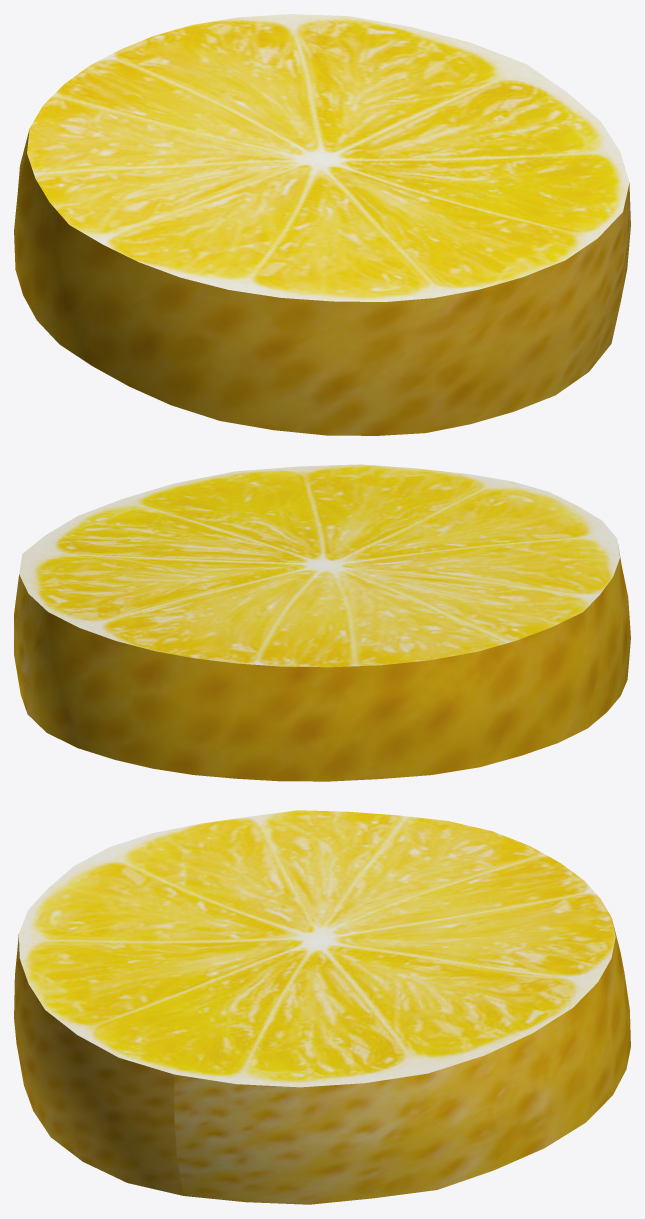
File: LemonSlice.fbx
3 views of the same model, one above another, from view 1: azimuth 30°, elevation 25°; view 2: azimuth 150°, elevation 25°; view 3: azimuth 270°, elevation 25° (orthographic). The views are drawn at different scales.
Visible parts, largest first — view 1: Lime.005, Lime.004; view 2: Lime.005, Lime.004; view 3: Lime.005, Lime.004.
Boxes of the visible parts, x1,y1,x2,y2 form: Lime.005: [27, 14, 629, 301]; Lime.004: [14, 130, 630, 435]; Lime.005: [19, 464, 619, 667]; Lime.004: [14, 544, 630, 781]; Lime.005: [19, 810, 615, 1087]; Lime.004: [14, 919, 630, 1204].
Size of the model in its own units: 5.99 by 1.84 by 6.1.
Materials: 2 (2 with a texture image).
